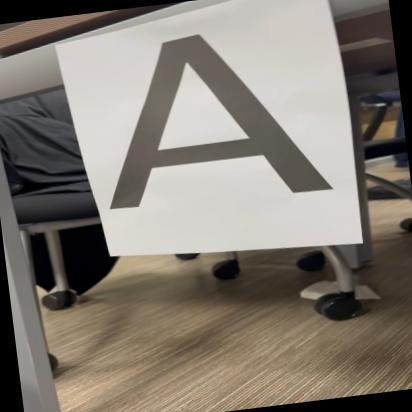seat: (86, 15, 340, 224)
